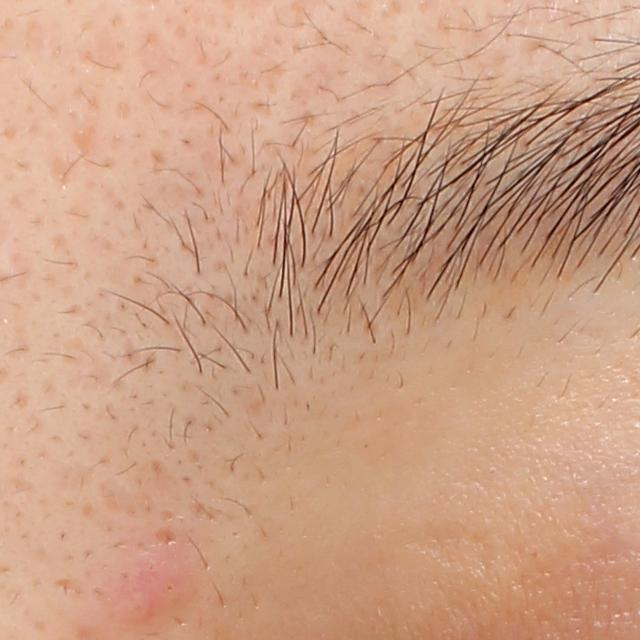atrophic_scar: (71, 122, 103, 160)
papule: (108, 548, 206, 635)
